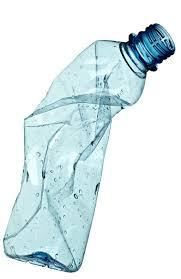plastic: (0, 25, 175, 265)
